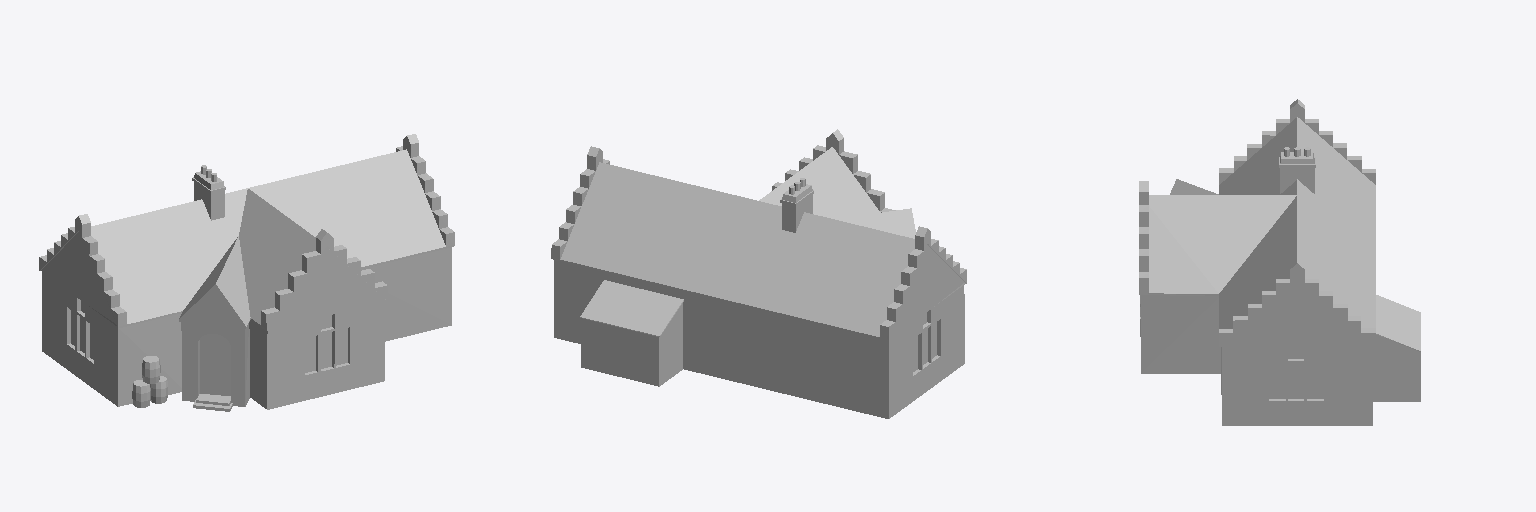
File: house.obj
The picture shows the model from 3 angles: view 1: azimuth 30°, elevation 25°; view 2: azimuth 150°, elevation 25°; view 3: azimuth 270°, elevation 25°; orthographic projection.
Visible parts, largest first — view 1: House; view 2: House; view 3: House.
Boxes of the visible parts, x1,y1,x2,y2 form: House: [39, 134, 454, 411]; House: [551, 129, 966, 418]; House: [1139, 99, 1420, 425].
Bounding box in the file's own units: 123 × 62.07 × 89.37.